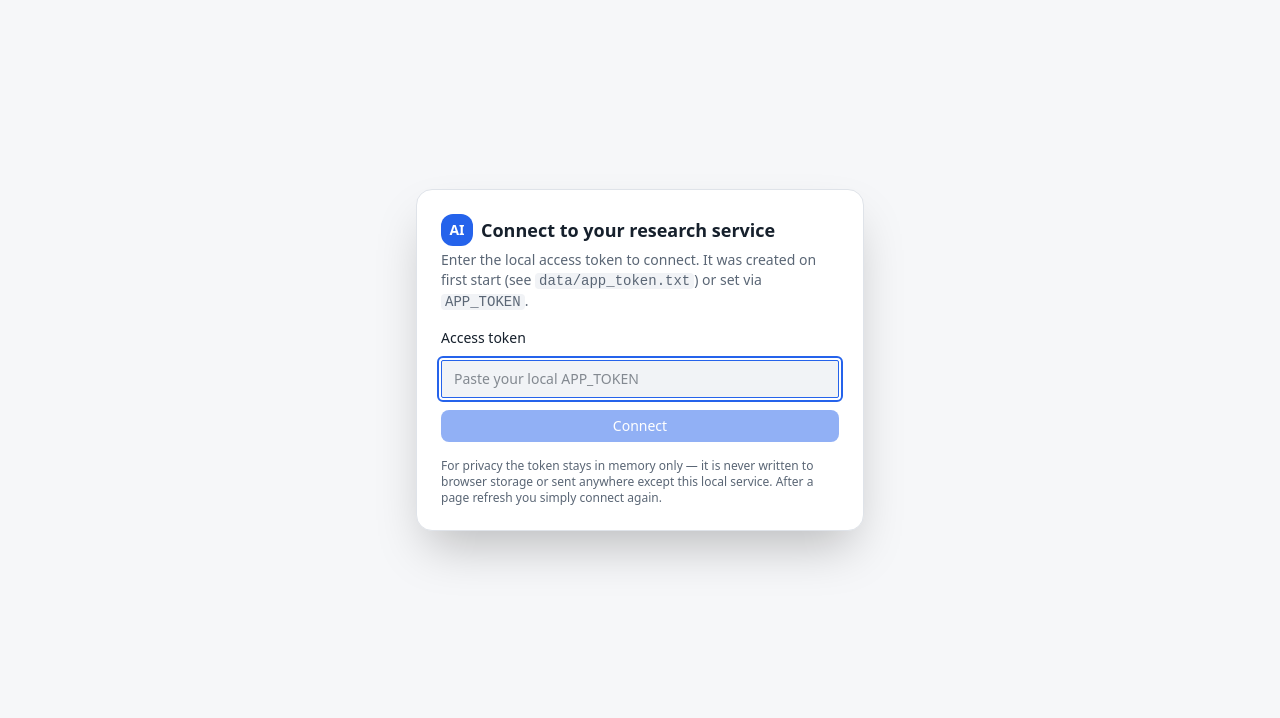
Test: diagnostics panel › handles missing usage metadata without fabricating numbers
Type "test-token-123" into the password field labelled "Access token" at (640, 379), box [441,360,839,398]
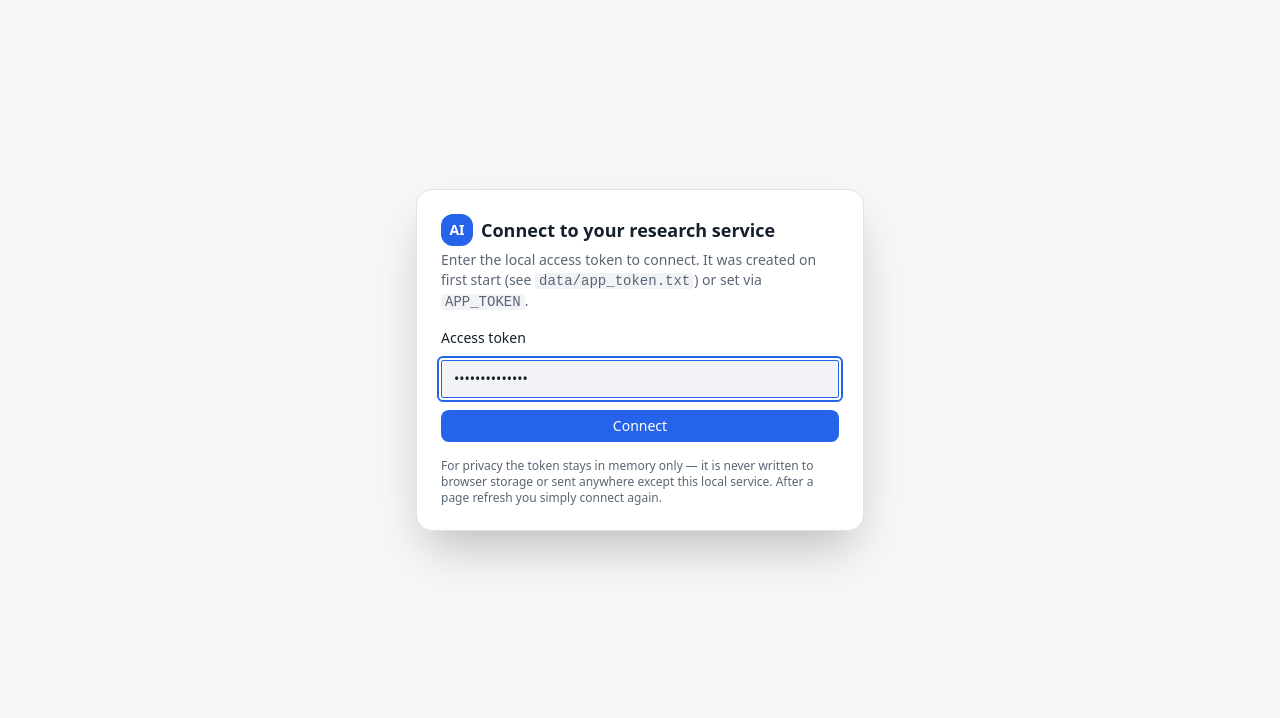
Click the button "Connect" at (640, 426), box [441,410,839,442]
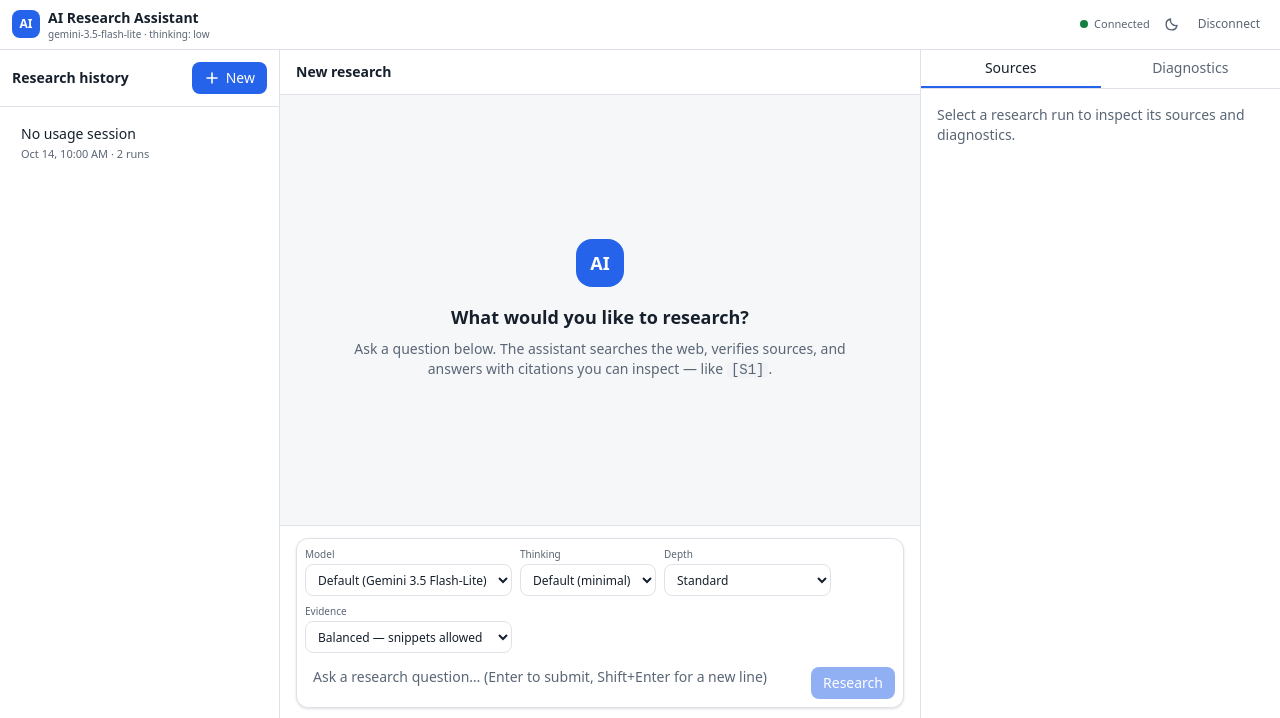
Check: the heading "What would you like to research?" is shown, box [451,303,749,331]
Click the text "No usage session" at (78, 133), box [21,124,136,142]
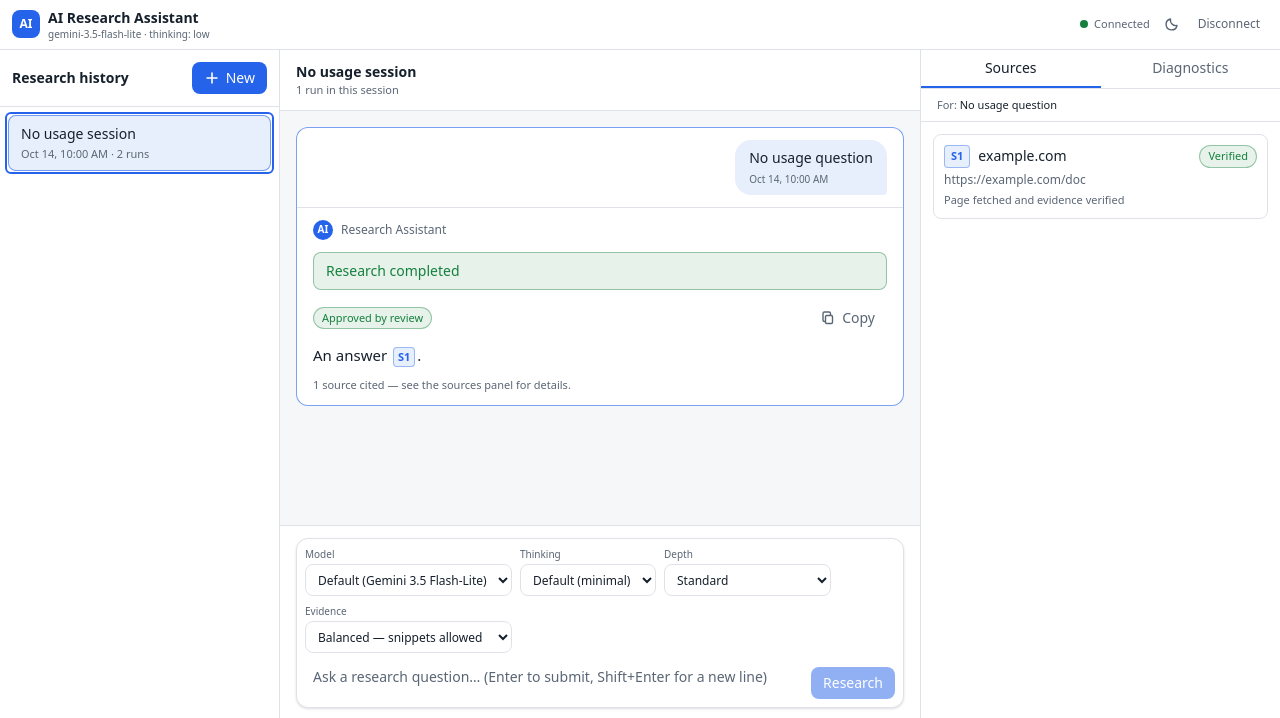
Check: the text "An answer S1 ." is shown, box [313,345,421,367]
Click the tab "Diagnostics" at (1190, 68), box [1100,50,1279,88]
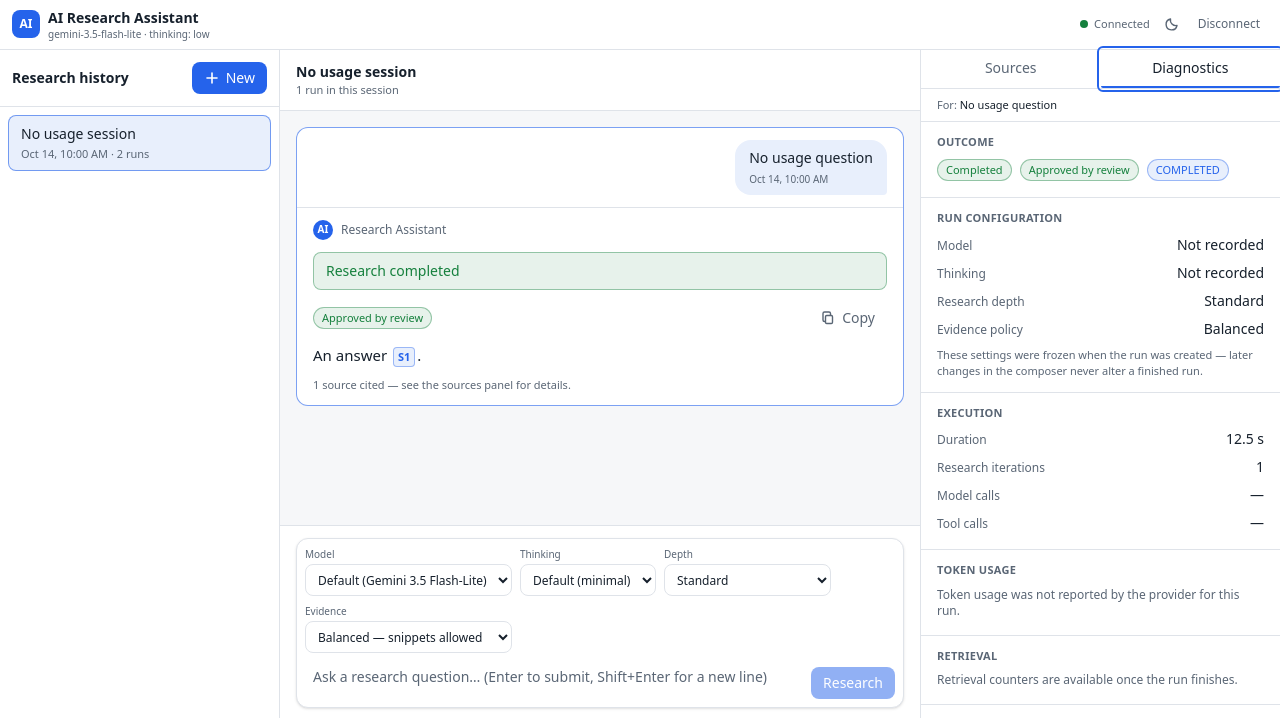
Check: the text "Token usage was not reported by the provider for this run." is shown, box [937,582,1264,622]
Check: the text "Retrieval counters are available once the run finishes." is shown, box [937,668,1264,692]
Check: the text "—" in the row of "Model calls" is shown, box [1250,485,1264,504]
